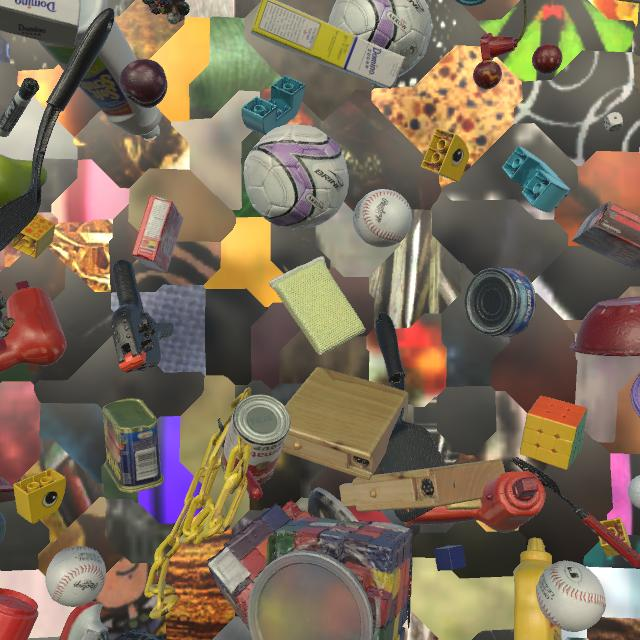ycb_004_sugar_box: (251, 0, 405, 89), (0, 0, 80, 48), (618, 0, 640, 4)
ycb_005_tomato_soup_can: (221, 394, 290, 485)
ycb_006_mustard_bottle: (513, 538, 562, 640)
ycb_007_tuna_fish_can: (464, 267, 536, 337)
ycb_008_pudding_box: (572, 201, 640, 271)
ycb_009_gelatin_box: (132, 195, 184, 273)
ycb_010_potted_meat_can: (103, 398, 164, 493)
ycb_016_pear: (0, 155, 47, 207)
ycb_018_plum: (120, 59, 167, 108)
